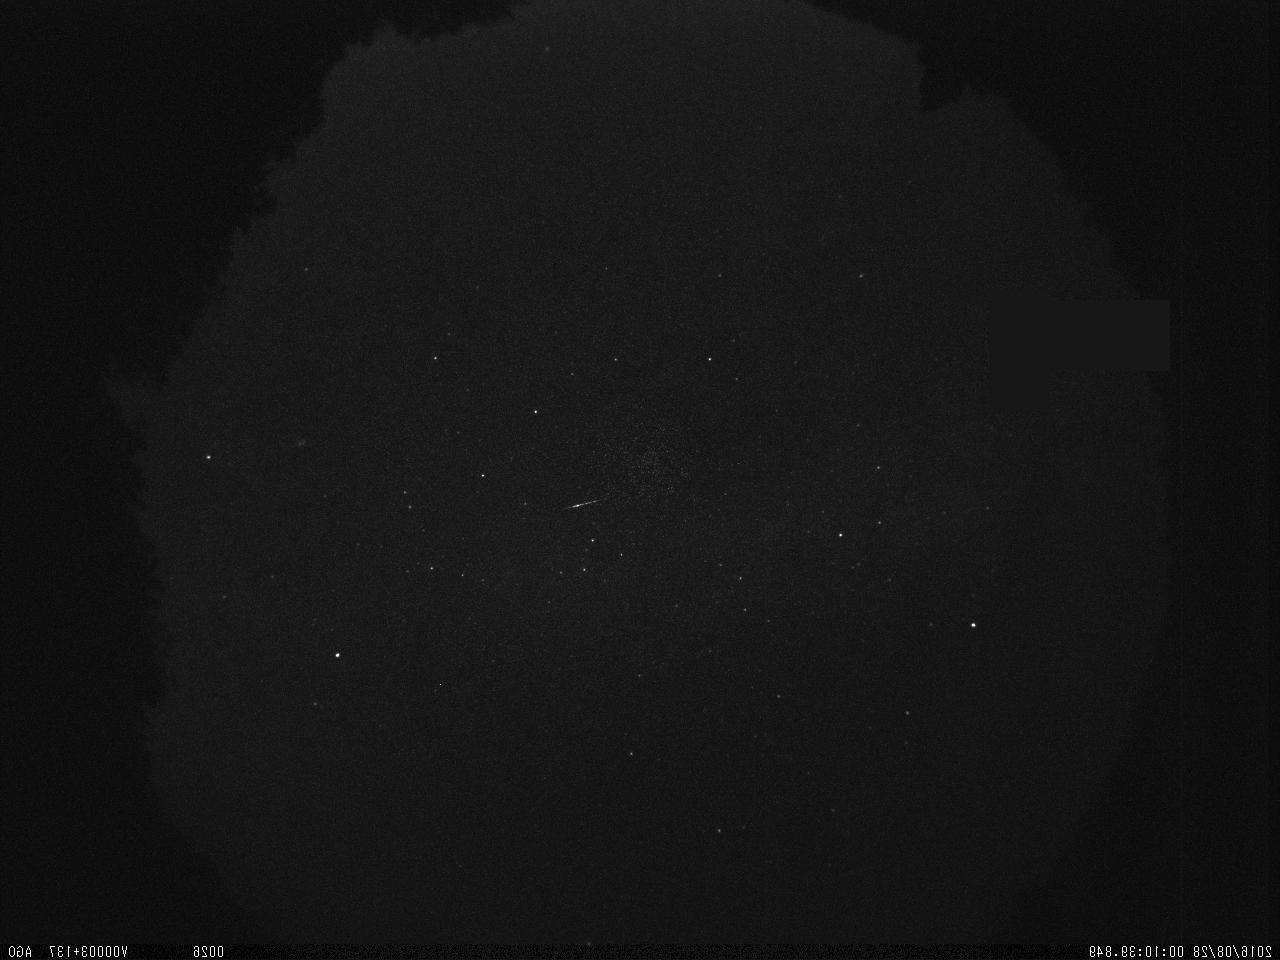meteor: (551, 489, 605, 521)
